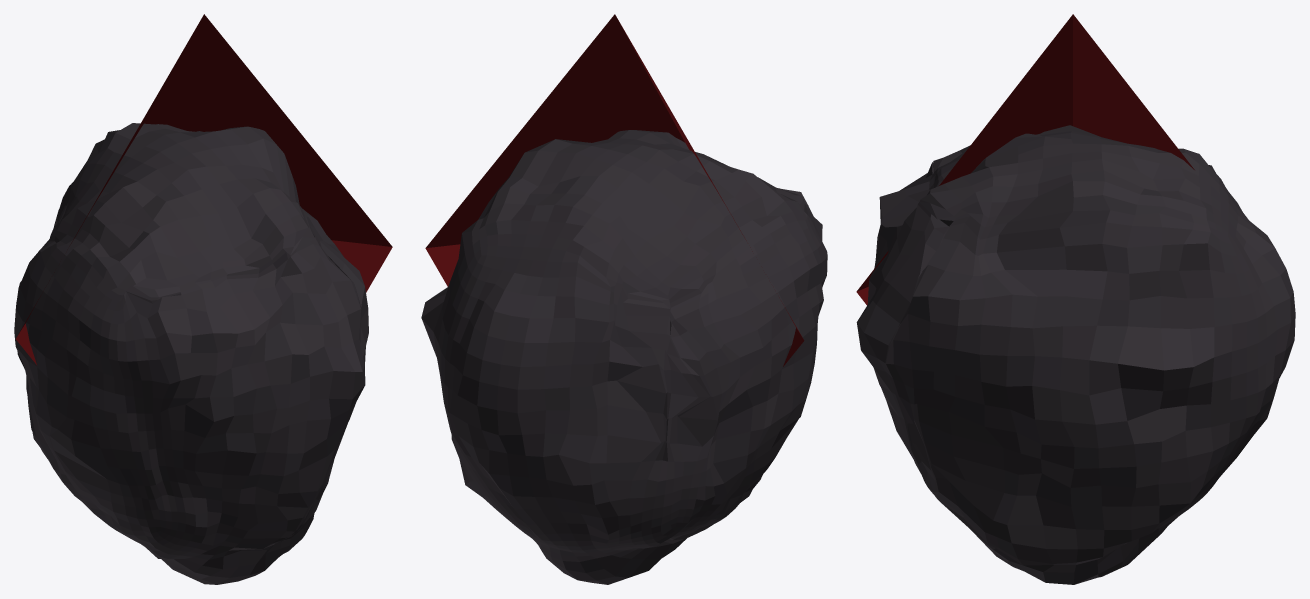
Rendered from firstEnemy.fbx.
The picture shows the model from 3 angles, left to right: view 1: azimuth 30°, elevation 25°; view 2: azimuth 150°, elevation 25°; view 3: azimuth 270°, elevation 25°; orthographic projection.
Visible parts, largest first — view 1: Cube.001, Cube; view 2: Cube.001, Cube; view 3: Cube.001, Cube.
Part boxes in pixels (x1,y1,x2,y2): Cube.001: (14, 123, 368, 584); Cube: (16, 14, 392, 364); Cube.001: (421, 130, 827, 584); Cube: (425, 14, 804, 366); Cube.001: (856, 125, 1295, 584); Cube: (856, 14, 1194, 305).
Bounding box in the file's own units: 283 × 402 × 287.
